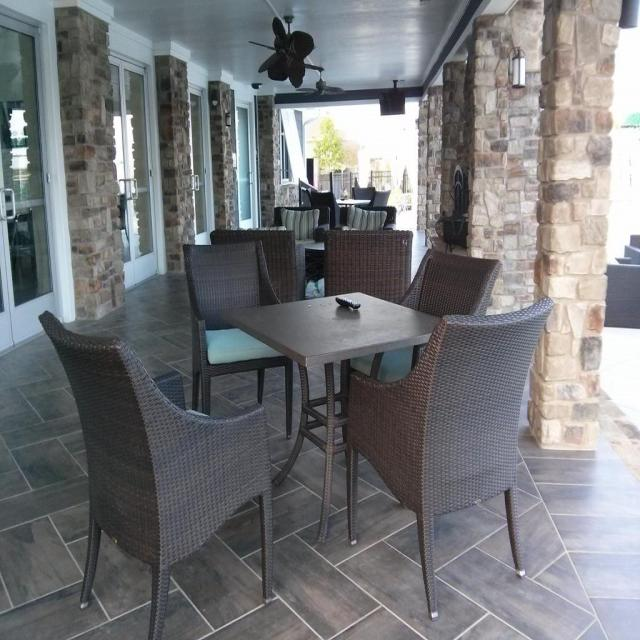Table: (225, 284, 440, 540)
